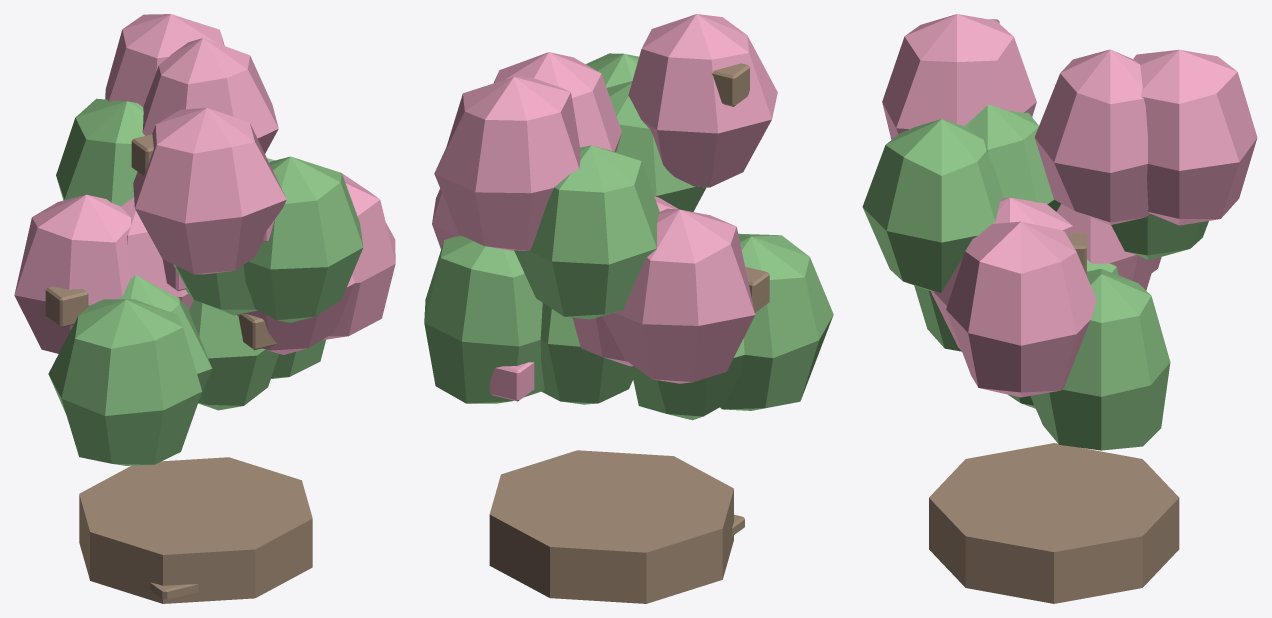
Rendered from b08_common_lilac.glb.
3 renders of one model, left to right at view 1: azimuth 30°, elevation 25°; view 2: azimuth 150°, elevation 25°; view 3: azimuth 270°, elevation 25°, orthographic. The views are drawn at different scales.
Visible parts, largest first — view 1: b08_common_lilac; view 2: b08_common_lilac; view 3: b08_common_lilac.
Part boxes in pixels (x1,y1,x2,y2): b08_common_lilac: (14, 14, 395, 603); b08_common_lilac: (424, 14, 833, 603); b08_common_lilac: (862, 14, 1257, 603).
Bounding box in the file's own units: 1.63 × 2.18 × 1.51.
